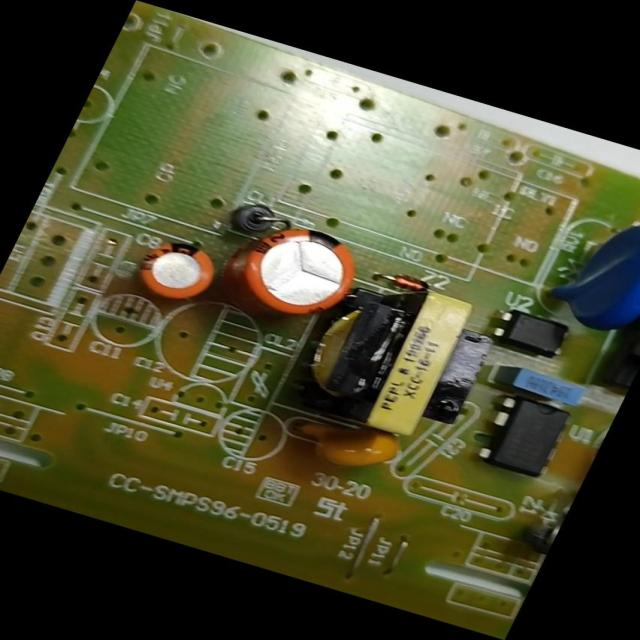Cap1: (212, 210, 378, 330)
Cap2: (117, 227, 231, 311)
MOSFET: (466, 388, 580, 484)
Mov: (531, 198, 639, 346)
Transformer: (276, 262, 514, 457), (590, 289, 639, 396)
